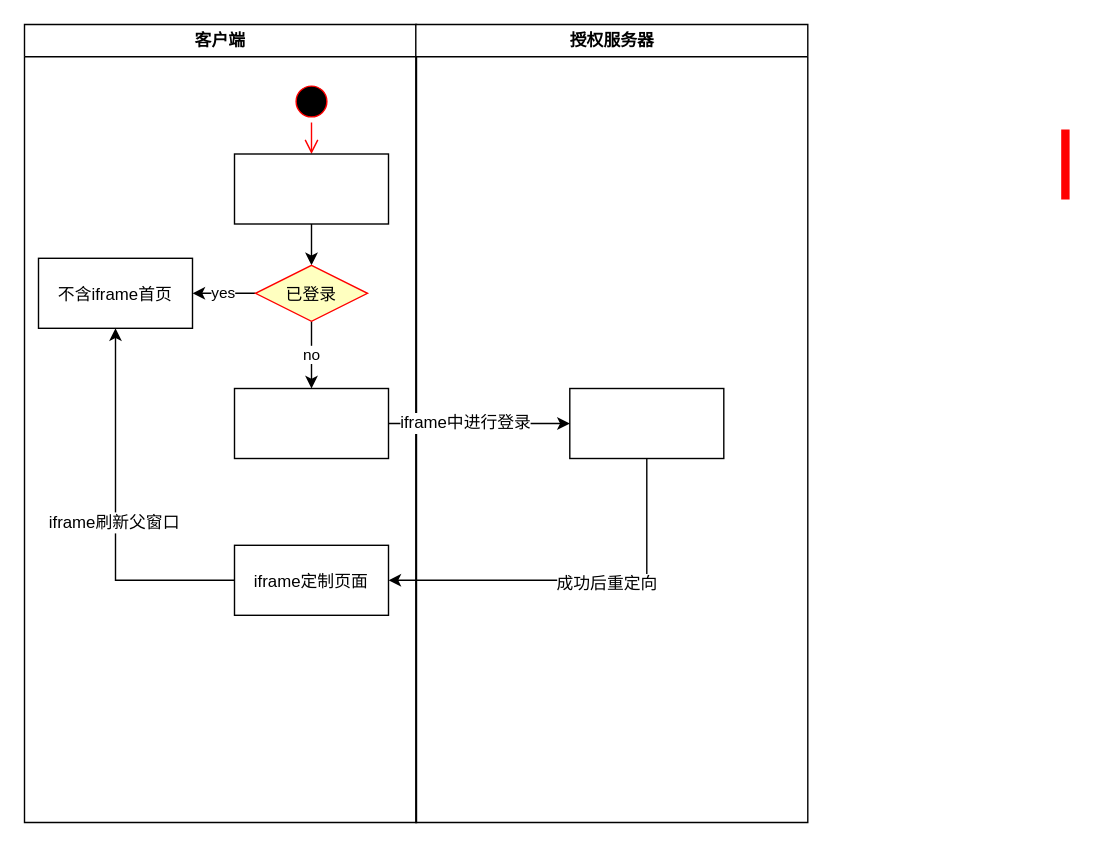
This 1105x847 diagram has some shape labels left out. Each missing label, with the centre of its shape:
"含iframe首页" belongs at (310,422).
"鉴权" belongs at (646,422).
"首页" belongs at (310,188).
